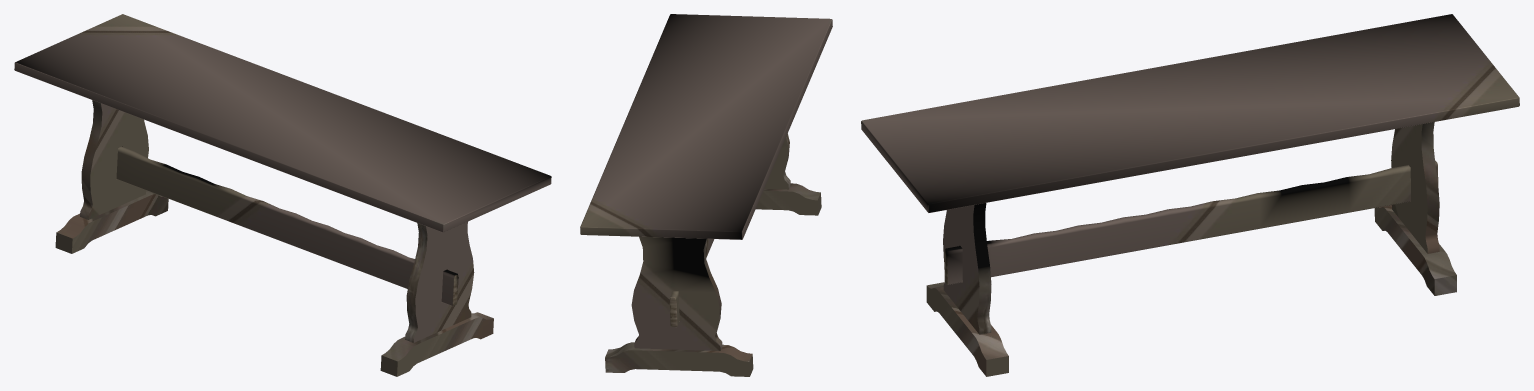
The model's file is Table_02.glb.
3 renders of one model, left to right at view 1: azimuth 30°, elevation 25°; view 2: azimuth 150°, elevation 25°; view 3: azimuth 270°, elevation 25°, orthographic. The views are drawn at different scales.
Visible parts, largest first — view 1: SM_Table_02; view 2: SM_Table_02; view 3: SM_Table_02.
Part boxes in pixels (x1=…): SM_Table_02: x1=14, y1=14, x2=551, y2=376; SM_Table_02: x1=580, y1=14, x2=832, y2=376; SM_Table_02: x1=861, y1=14, x2=1519, y2=376.
Bounding box in the file's own units: 1.59 × 0.9322 × 2.62.
1 material, 1 textured.
